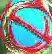No waiting: (2, 3, 51, 51)
